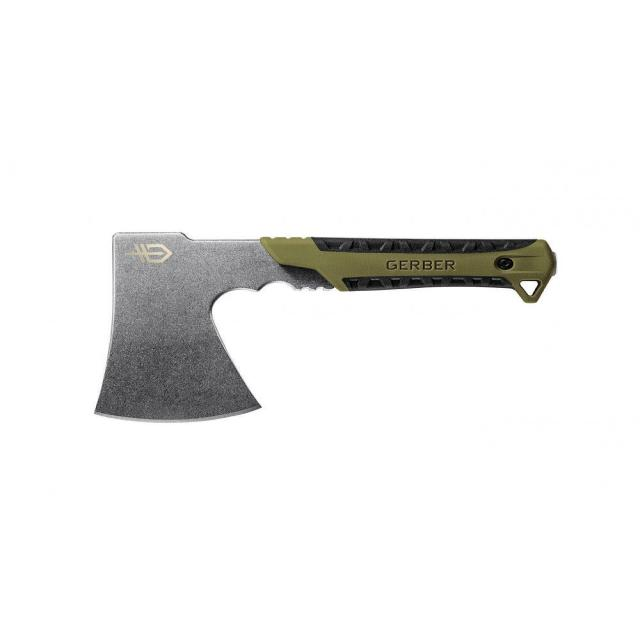Kapak: (120, 223, 538, 418)
